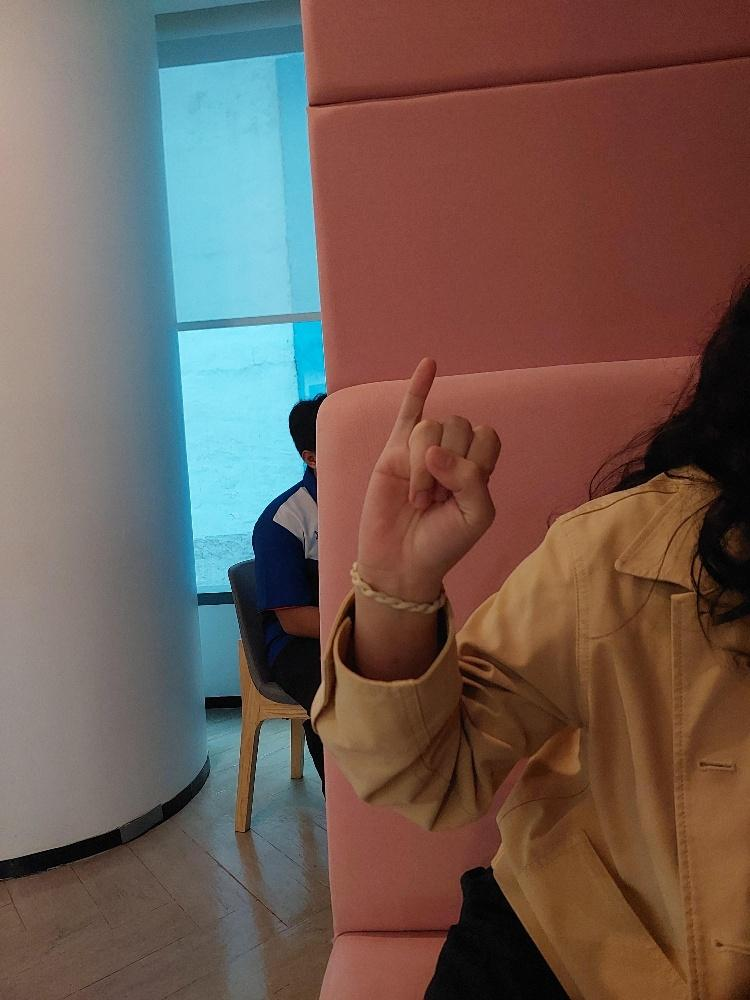i: (350, 345, 508, 615)
